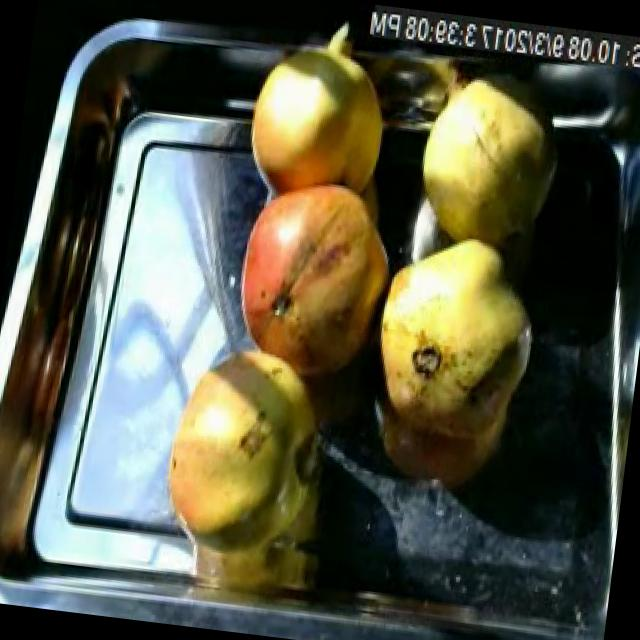fruit: (353, 208, 557, 468), (213, 156, 404, 407), (146, 324, 347, 562), (400, 58, 576, 268), (232, 29, 402, 212)
